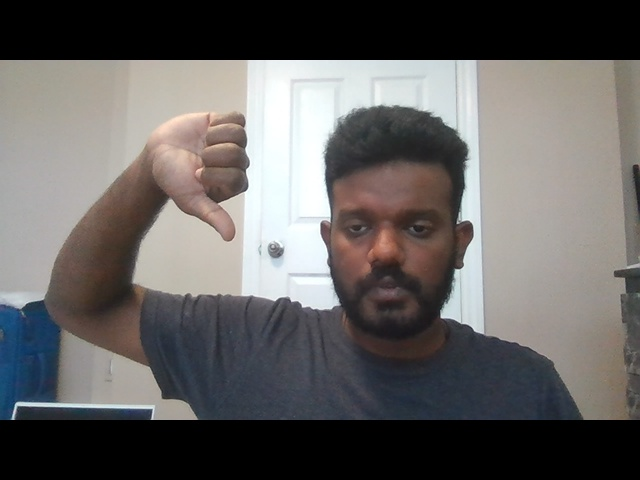no: (137, 101, 257, 246)
